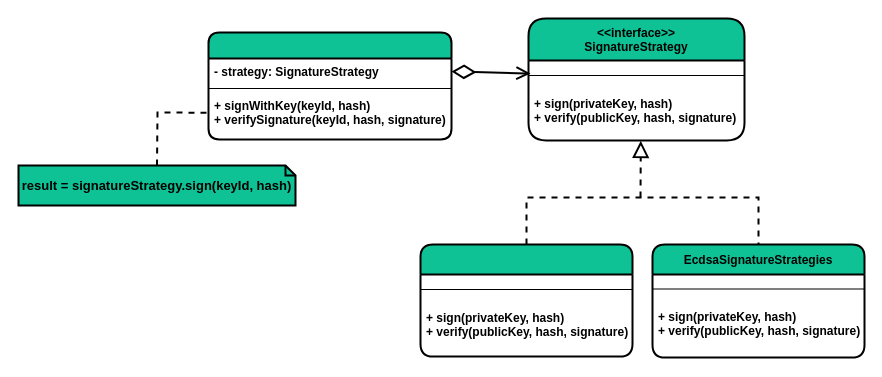
This 882x377 diagram has some shape labels left out. Each missing label, with the box of its shape:
KeyService: (207, 31, 452, 140)
RsaSignatureStrategy: (419, 243, 633, 357)
